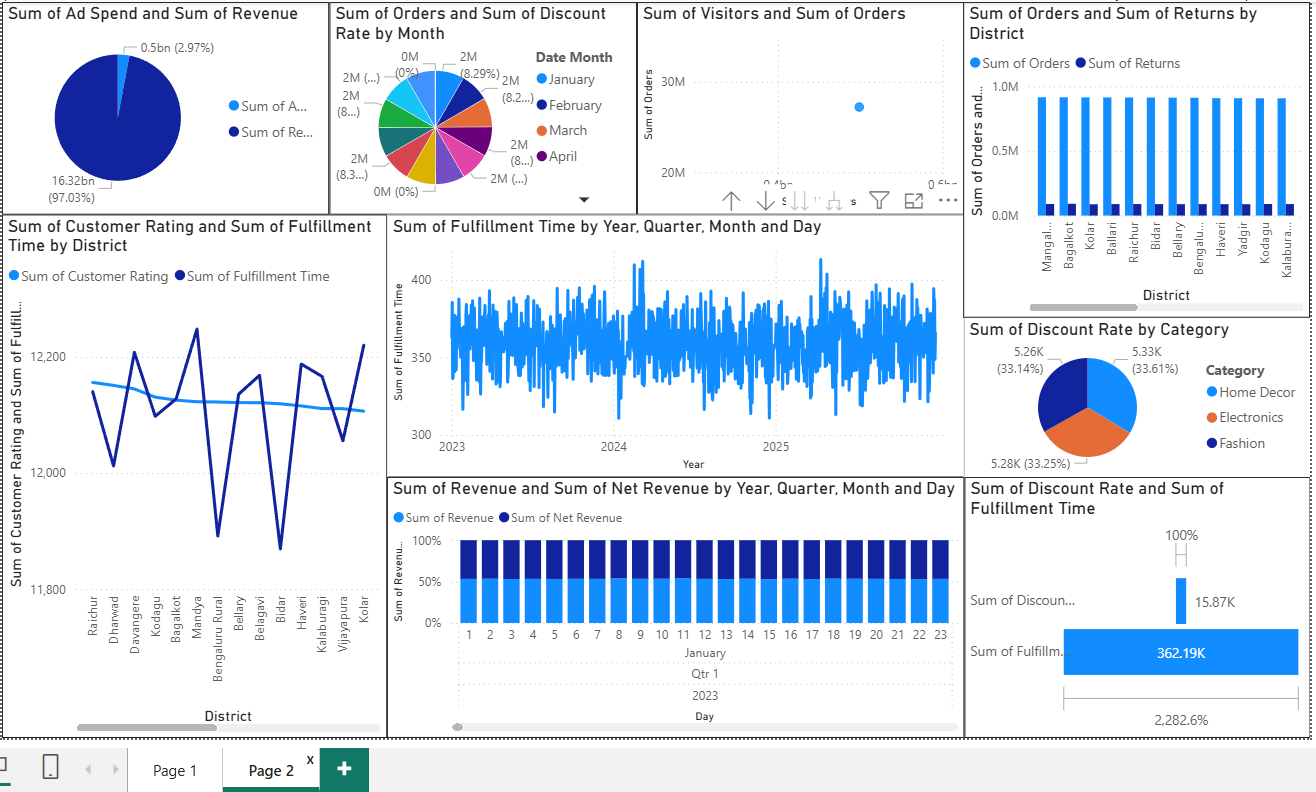

This screenshot's page, from the dashboard's own definition file:
{"tool":"powerbi","page":{"name":"Page 2","canvas":[1280,720],"ordinal":1},"visuals":[{"type":"pieChart","fields":{"Y":["Sum(sales_data (2).Ad Spend)","Sum(sales_data (2).Revenue)"]},"box":[0,0,320.4,207.9],"z":0},{"type":"pieChart","fields":{"Y":["Sum(sales_data (2).Orders)","Sum(sales_data (2).Discount Rate)"],"Category":["sales_data (2).Date.Variation.Date Hierarchy.Month"]},"box":[320.4,0,300.8,207.9],"z":1000},{"type":"lineChart","fields":{"Y":["Sum(sales_data (2).Customer Rating)","Sum(sales_data (2).Fulfillment Time)"],"Category":["sales_data (2).District"]},"box":[0,207.9,376.6,512.4],"z":2000},{"type":"scatterChart","fields":{"X":["Sum(sales_data (2).Visitors)"],"Y":["Sum(sales_data (2).Orders)"]},"box":[621.2,0,320.4,207.9],"z":3000},{"type":"lineChart","fields":{"Y":["Sum(sales_data (2).Fulfillment Time)"],"Category":["sales_data (2).Date.Variation.Date Hierarchy.Year","sales_data (2).Date.Variation.Date Hierarchy.Quarter","sales_data (2).Date.Variation.Date Hierarchy.Month","sales_data (2).Date.Variation.Date Hierarchy.Day"]},"box":[376.6,207.9,564.9,256.8],"z":4000},{"type":"hundredPercentStackedColumnChart","fields":{"Y":["Sum(sales_data (2).Revenue)","Sum(sales_data (2).Net Revenue)"],"Category":["sales_data (2).Date.Variation.Date Hierarchy.Year","sales_data (2).Date.Variation.Date Hierarchy.Quarter","sales_data (2).Date.Variation.Date Hierarchy.Month","sales_data (2).Date.Variation.Date Hierarchy.Day"]},"box":[377,465,565,255],"z":5000},{"type":"clusteredColumnChart","fields":{"Y":["Sum(sales_data (2).Orders)","Sum(sales_data (2).Returns)"],"Category":["sales_data (2).District"]},"box":[940.5,0,339.5,308.9],"z":11000},{"type":"pieChart","fields":{"Y":["Sum(sales_data (2).Discount Rate)"],"Category":["sales_data (2).Category"]},"box":[941.9,308.9,338.1,155.8],"z":12000},{"type":"funnel","fields":{"Y":["Sum(sales_data (2).Discount Rate)","Sum(sales_data (2).Fulfillment Time)"]},"box":[942,465,338,255],"z":13000}]}

Visuals, with their boxes in screenshot pixels (x1, y1, x2, y2):
pieChart - Sum(sales_data (2).Ad Spend) x Sum(sales_data (2).Revenue): crop(7, 3, 332, 214)
pieChart - Sum(sales_data (2).Orders) x Sum(sales_data (2).Discount Rate): crop(332, 3, 637, 214)
lineChart - Sum(sales_data (2).Customer Rating) x Sum(sales_data (2).Fulfillment Time): crop(7, 214, 389, 734)
scatterChart - Sum(sales_data (2).Visitors) x Sum(sales_data (2).Orders): crop(637, 3, 962, 214)
lineChart - Sum(sales_data (2).Fulfillment Time) x sales_data (2).Date.Variation.Date Hierarchy.Year: crop(389, 214, 961, 475)
hundredPercentStackedColumnChart - Sum(sales_data (2).Revenue) x Sum(sales_data (2).Net Revenue): crop(389, 475, 962, 733)
clusteredColumnChart - Sum(sales_data (2).Orders) x Sum(sales_data (2).Returns): crop(960, 3, 1305, 317)
pieChart - Sum(sales_data (2).Discount Rate) x sales_data (2).Category: crop(962, 317, 1305, 475)
funnel - Sum(sales_data (2).Discount Rate) x Sum(sales_data (2).Fulfillment Time): crop(962, 475, 1305, 733)
